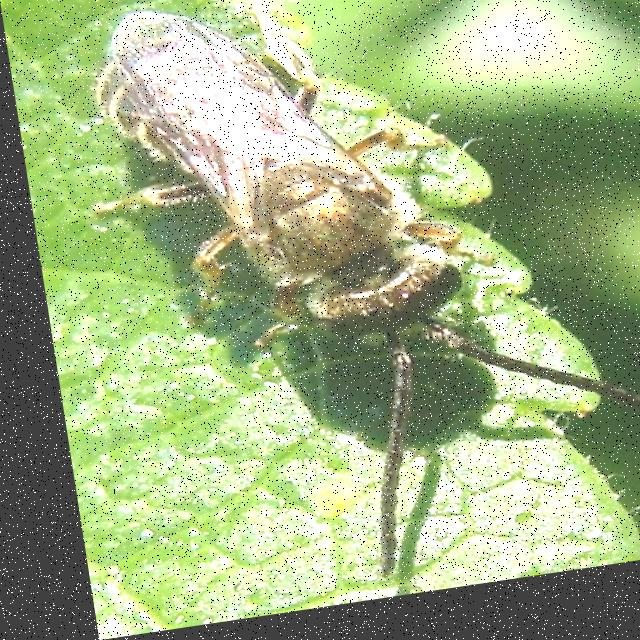Lasioglossum: (45, 0, 640, 611)
